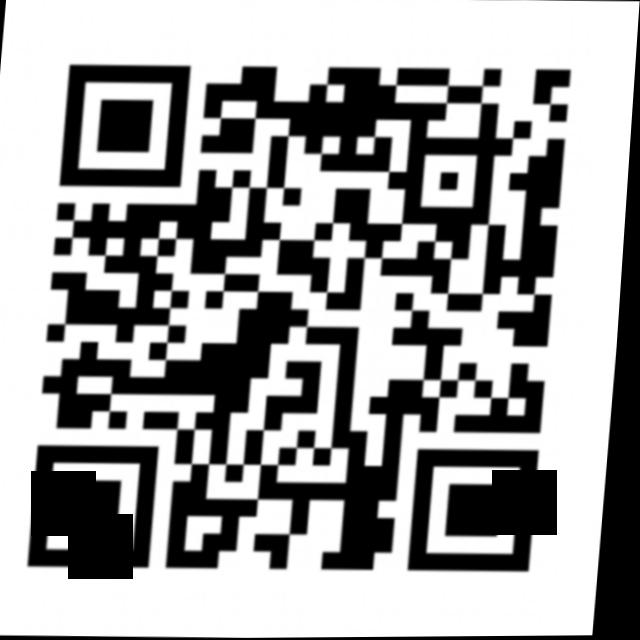QR_CODE: (20, 48, 586, 588)
